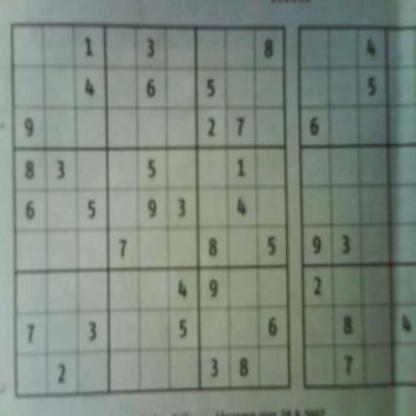sudoku: (7, 18, 294, 403)
